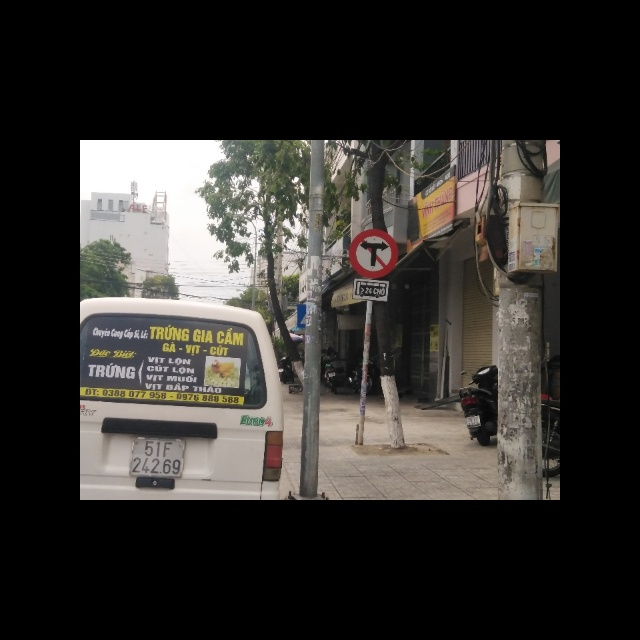Cấm rẽ trái và rẽ phải: (349, 229, 398, 279)
